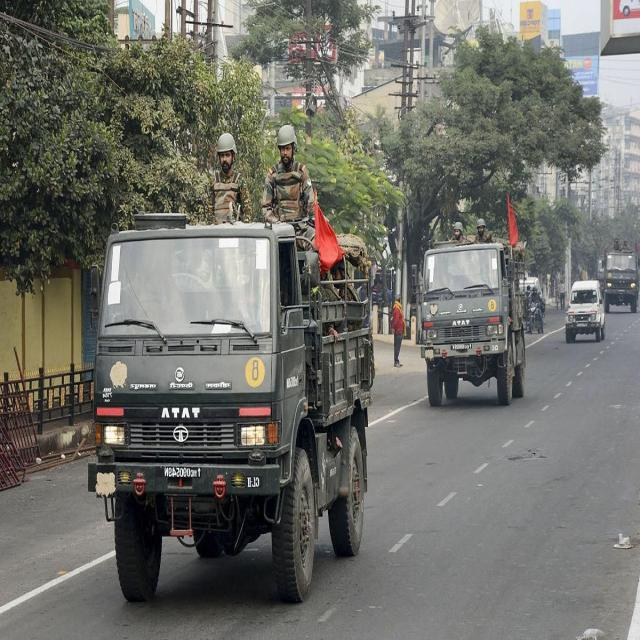car: (565, 279, 604, 342)
truck: (88, 213, 375, 602), (418, 241, 529, 408), (604, 253, 638, 312)
